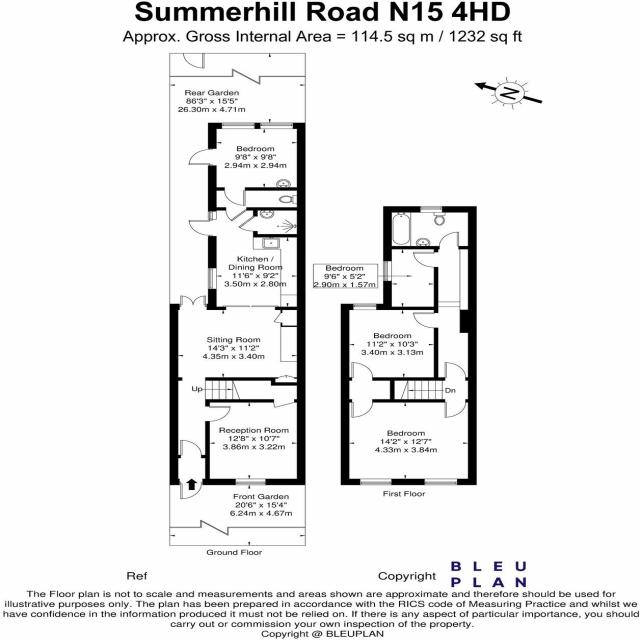DOOR: (179, 478, 203, 500), (188, 148, 217, 166), (350, 361, 374, 381), (205, 405, 231, 423), (412, 312, 439, 329), (350, 399, 374, 418), (443, 399, 467, 418), (179, 439, 203, 458), (412, 251, 438, 268), (223, 187, 246, 206), (444, 362, 466, 381), (439, 231, 460, 249), (236, 215, 258, 232), (225, 207, 247, 222)
ROOM: (169, 207, 306, 386), (340, 399, 477, 485), (188, 122, 306, 206), (205, 399, 306, 486), (340, 303, 439, 381)
WINDOW: (423, 478, 459, 486), (358, 478, 393, 486), (235, 478, 266, 486), (221, 122, 255, 129), (260, 122, 293, 129), (207, 268, 217, 290), (383, 261, 392, 282), (352, 303, 378, 310), (420, 206, 443, 213)
